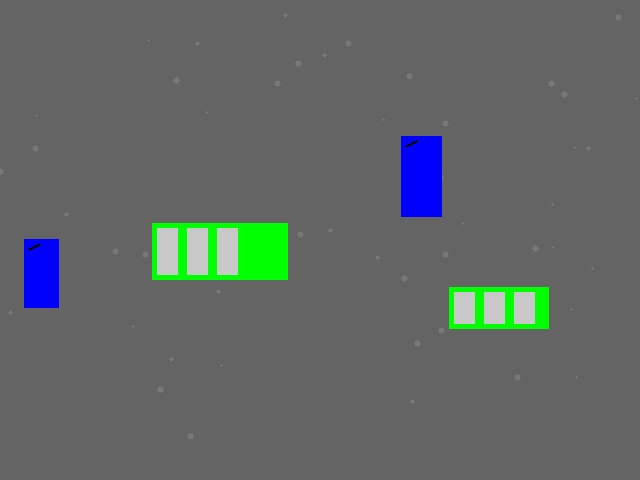bus: (152, 223, 287, 279), (449, 287, 548, 328)
motorcycle: (401, 136, 441, 216), (24, 239, 58, 307)
